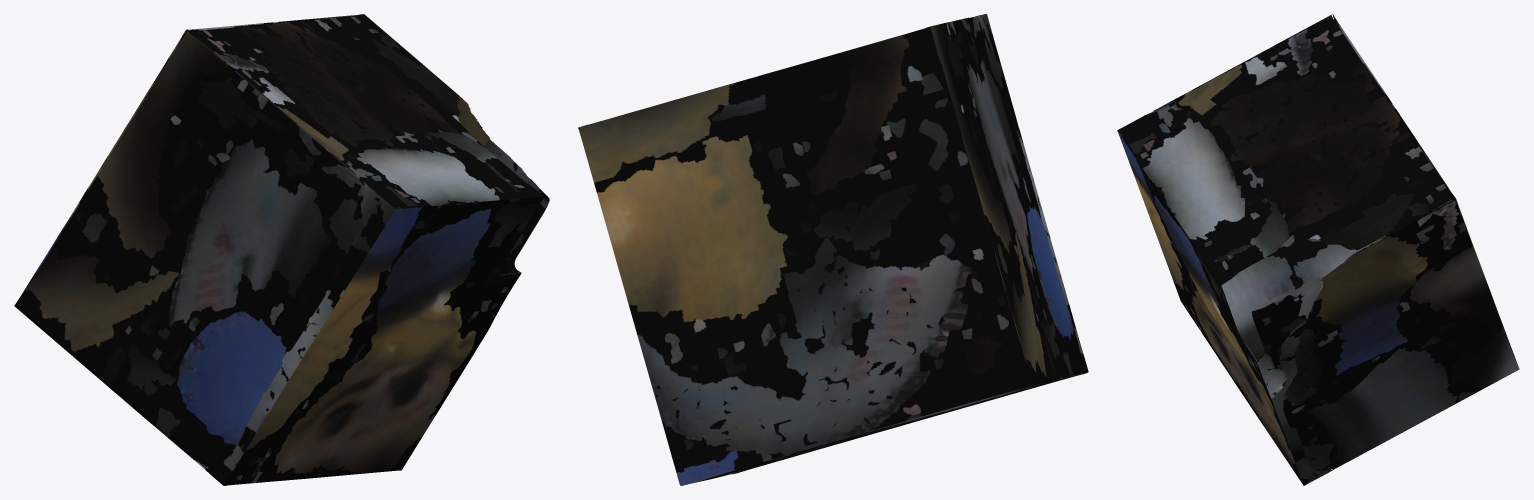
File: center_benchmark_mesh_cup-stanford.obj
3 views of the same model, side by side, from view 1: azimuth 30°, elevation 25°; view 2: azimuth 150°, elevation 25°; view 3: azimuth 270°, elevation 25° (orthographic). The views are drawn at different scales.
Visible parts, largest first — view 1: geometry_0; view 2: geometry_0; view 3: geometry_0.
Part boxes in pixels (x1,y1,x2,y2): geometry_0: [14, 14, 549, 485]; geometry_0: [578, 14, 1088, 485]; geometry_0: [1117, 14, 1519, 485].
Bounding box in the file's own units: 0.1493 × 0.1516 × 0.1409.
